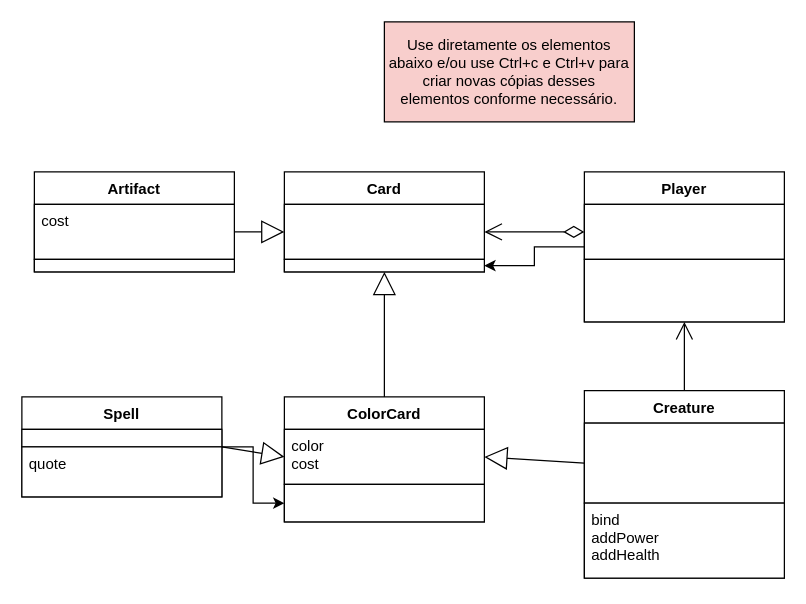
Some shapes in this 806 by 604 pixel diagram are drawn without their labels. Here are the shapes that lost their labels. From the top down, the centre of each, then its label:
At pixel 383 231: "image description".
At pixel 683 231: "health cards".
At pixel 683 290: "buy use".
At pixel 683 462: "power health target".
At pixel 383 502: "colorName".
